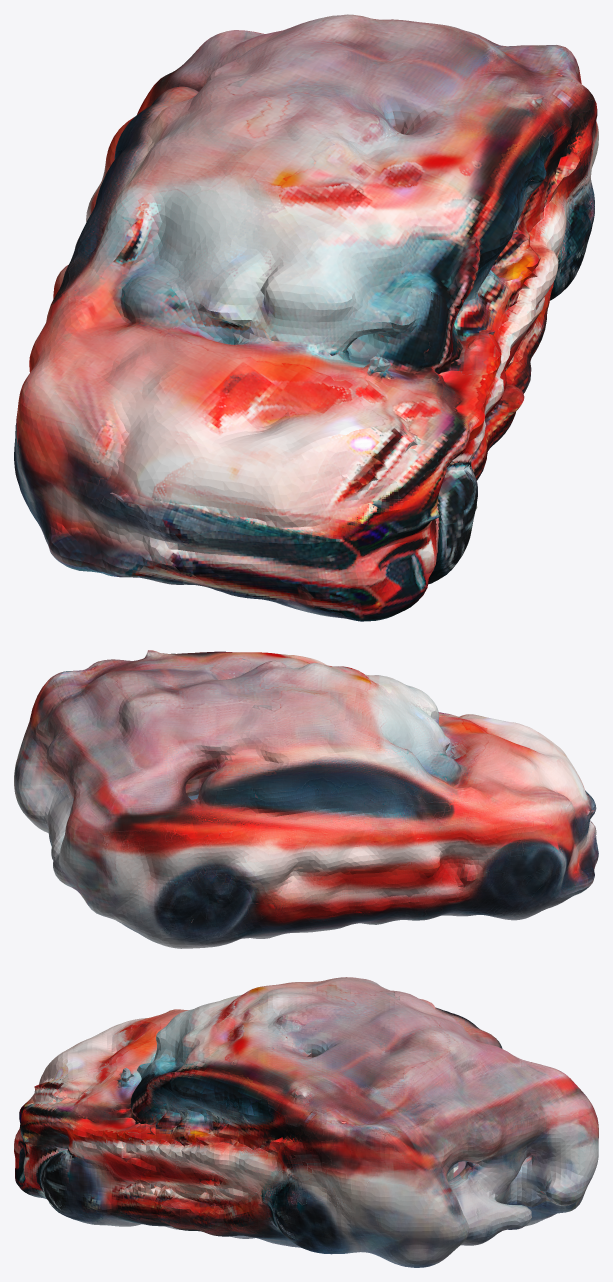
File: Red_car.glb
The picture shows the model from 3 angles, top to bottom: view 1: azimuth 30°, elevation 25°; view 2: azimuth 150°, elevation 25°; view 3: azimuth 270°, elevation 25°; orthographic projection. The views are drawn at different scales.
Bounding box in the file's own units: 1.43 × 0.7052 × 1.5.
1 material, 1 textured.
